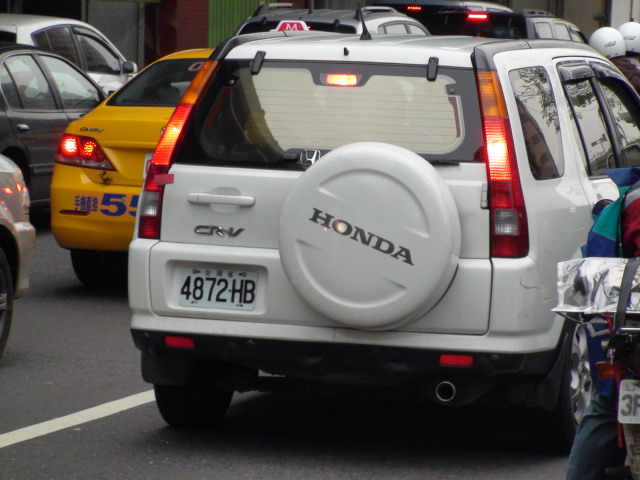plate: (178, 266, 260, 313)
